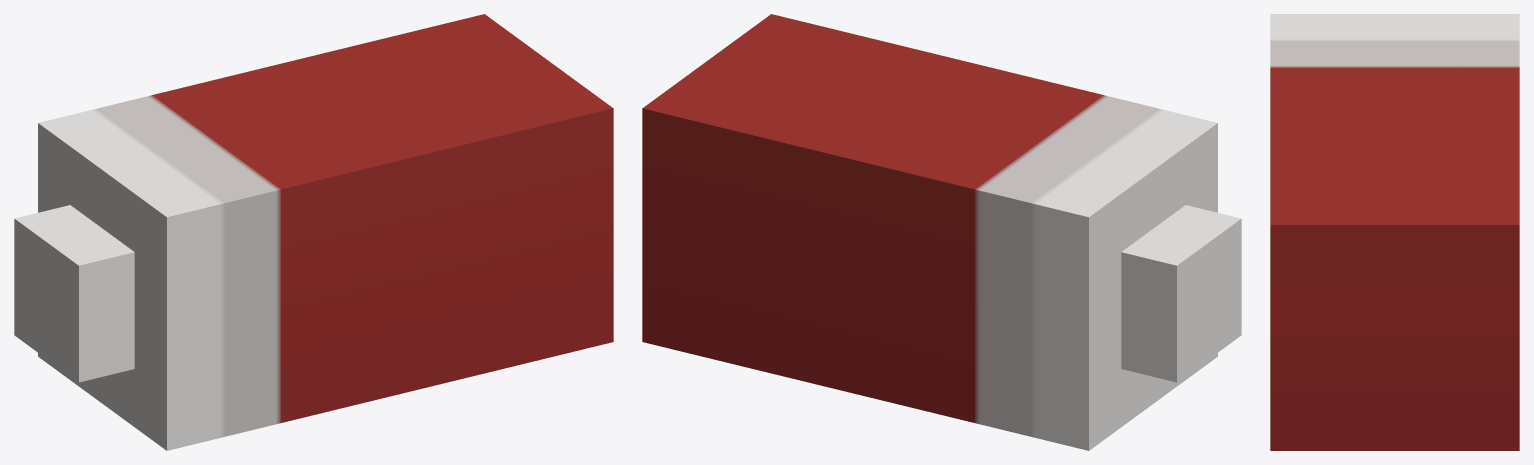
The model's file is Elbow065.fbx.
The picture shows the model from 3 angles, left to right: view 1: azimuth 30°, elevation 25°; view 2: azimuth 150°, elevation 25°; view 3: azimuth 270°, elevation 25°; orthographic projection. The views are drawn at different scales.
Parts seen in each view (by area): view 1: Elbow065; view 2: Elbow065; view 3: Elbow065.
Part boxes in pixels (left/top/right/bottom): Elbow065: left=14, top=14, right=613, bottom=450; Elbow065: left=642, top=14, right=1241, bottom=450; Elbow065: left=1270, top=14, right=1519, bottom=450.
Size of the model in its own units: 9 by 4 by 4.
